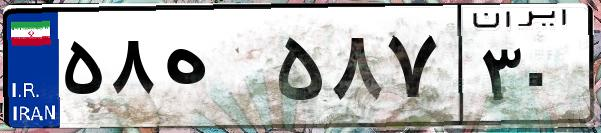0: (525, 38, 570, 115)
3: (475, 38, 525, 113)
5: (270, 28, 330, 110), (57, 26, 110, 100)
7: (385, 28, 445, 110)
8: (330, 28, 385, 110), (110, 28, 158, 98)
ه: (158, 20, 270, 120)
